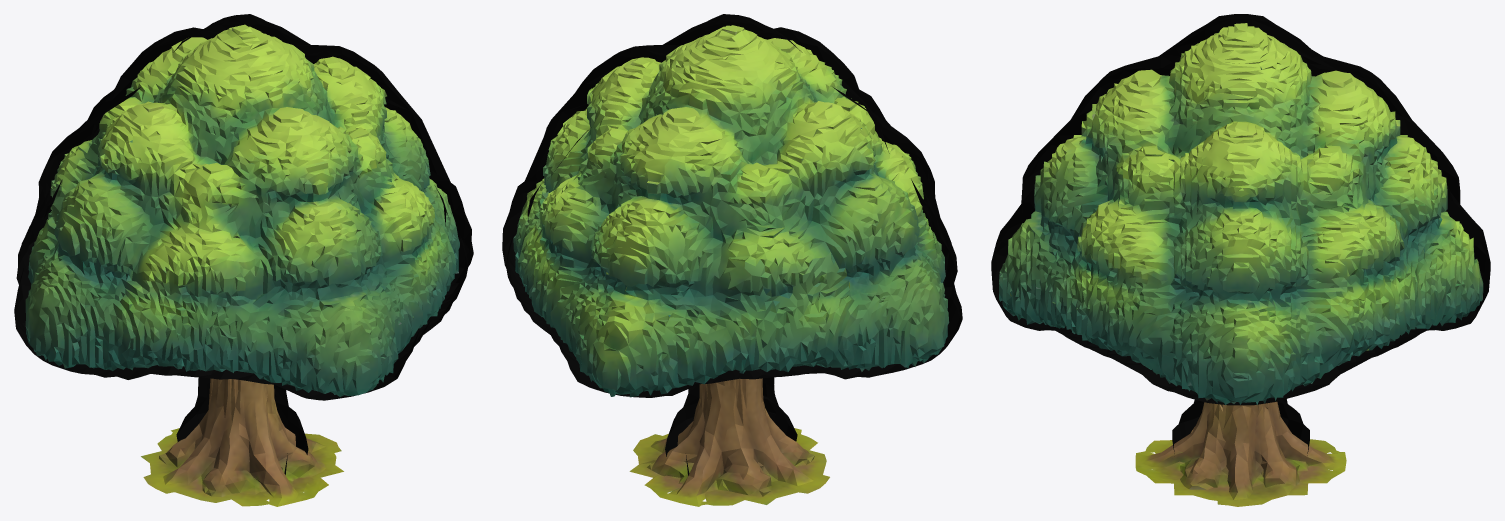
File: Ghibli_Tree_H.glb
3 views of the same model, side by side, from view 1: azimuth 30°, elevation 25°; view 2: azimuth 150°, elevation 25°; view 3: azimuth 270°, elevation 25° (orthographic).
Parts seen in each view (by area): view 1: TreeH, TreeH_OutlineHull; view 2: TreeH, TreeH_OutlineHull; view 3: TreeH, TreeH_OutlineHull.
Part boxes in pixels (x1,y1,x2,y2): TreeH: (25, 24, 459, 506); TreeH_OutlineHull: (14, 14, 473, 474); TreeH: (513, 25, 949, 506); TreeH_OutlineHull: (502, 14, 962, 475); TreeH: (999, 23, 1483, 506); TreeH_OutlineHull: (991, 14, 1490, 455).
Size of the model in its own units: 1.96 by 1.98 by 1.96.
2 materials, 1 textured.
